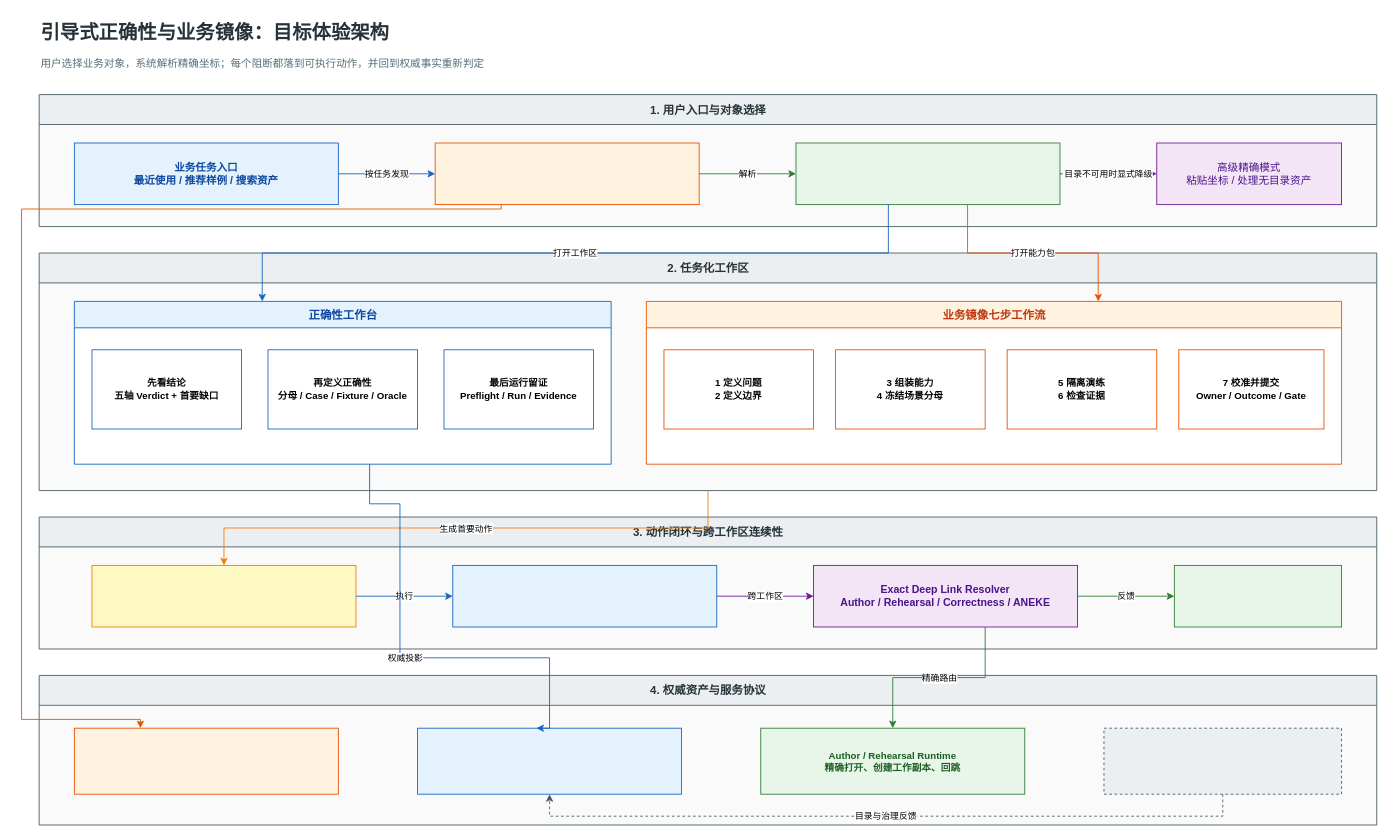
Some shapes in this 1392 by 840 pixel diagram are drawn without their labels. The centre of each missing label's shape, as x and y in pixels:
ANEKE / 组织权威目录 Owner、分类、Gate、Workbook: (1222,760)
Reference Candidate API 有界搜索、分页、Scope、兼容性: (205,760)
Remediation Router task + anchor + action + predicate: (584,596)
Workspace BFF metadata-only 投影与 Next Action: (549,760)
主动筛选组合框 类型 + 关键词 + Scope + 生命周期: (566,173)
可见反馈 聚焦 / 高亮 / 状态 / 返回坐标: (1257,596)
唯一下一步 原因 + 影响 + 完成标准: (223,596)
系统解析精确坐标 id + revision + fingerprint（只读）: (927,173)
